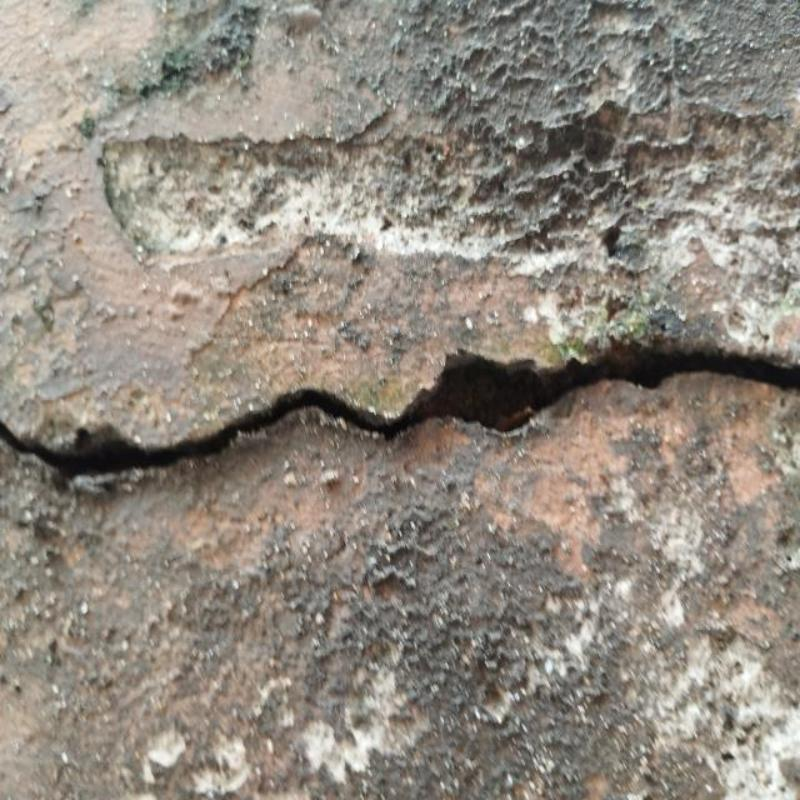pothole: (0, 351, 800, 477)
